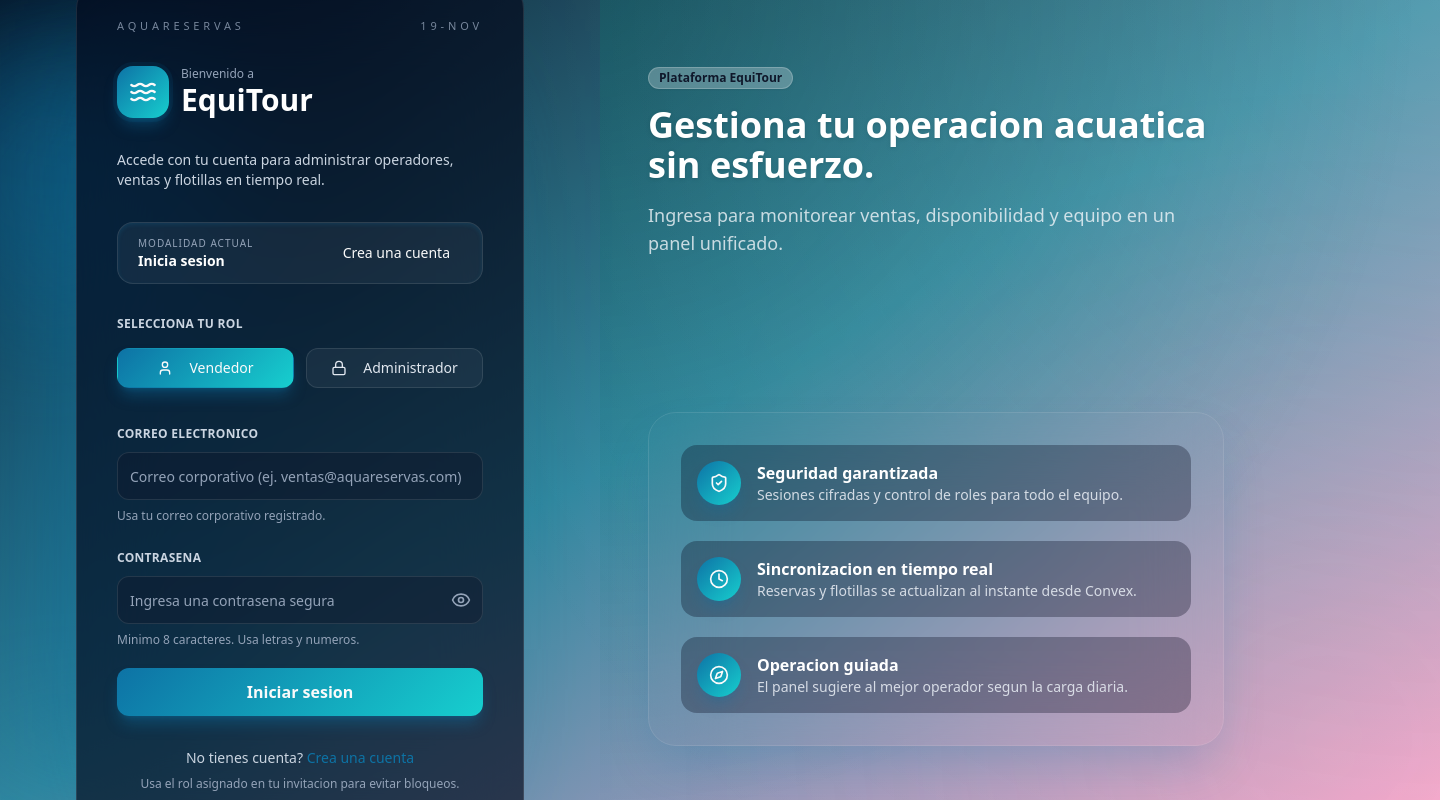
Test case: LoginScreen › renders sign-in mode by default and toggles to sign-up
Check: the text "Inicia sesion" is shown, box top-left (138, 251), bottom-right (225, 270)
Click the button "Crea una cuenta" next to "Modalidad actual". click: (396,253)
box: top-left (331, 235), bottom-right (462, 271)
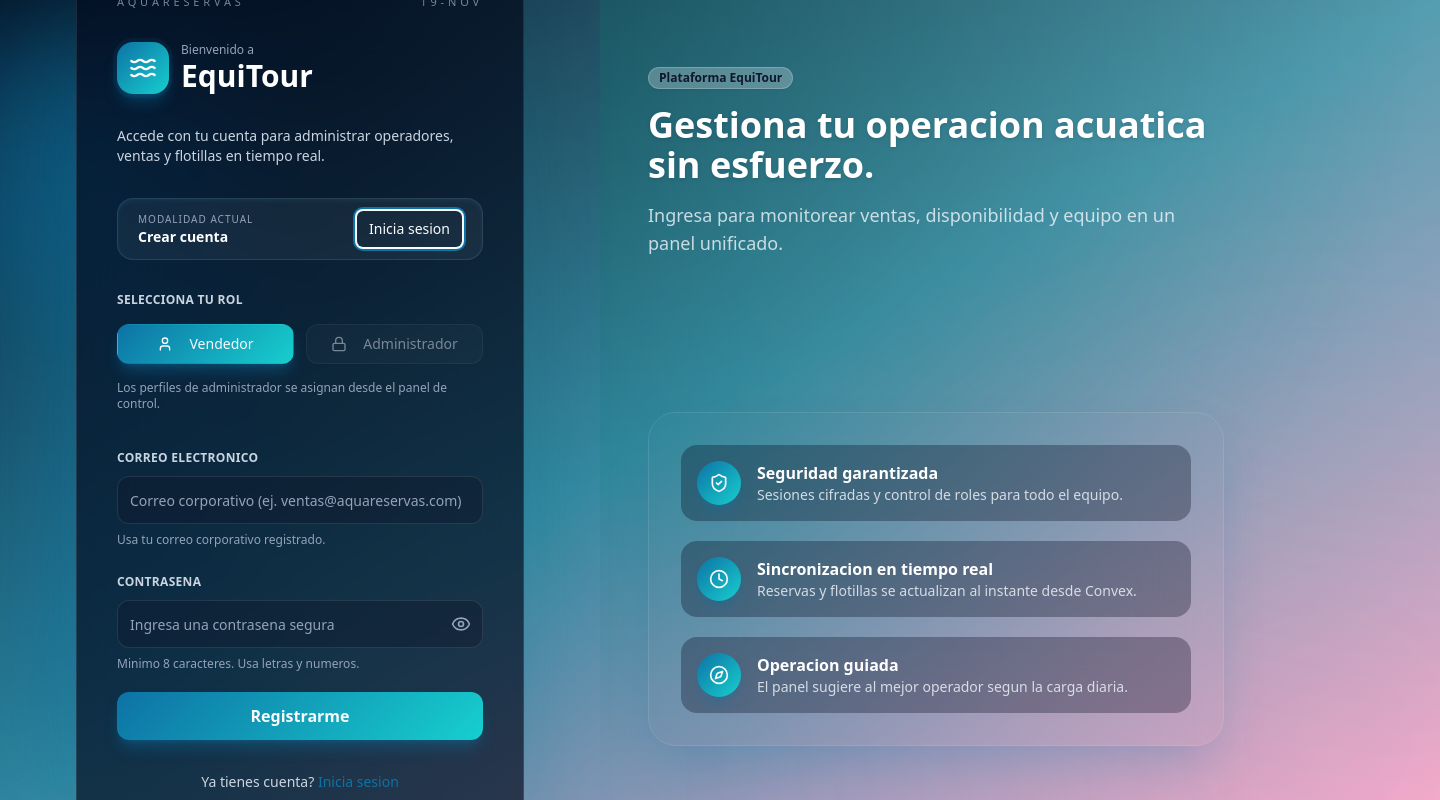
Check: the text "Crear cuenta" is shown, box top-left (138, 227), bottom-right (228, 246)
Check: the button "Administrador" is disabled, box top-left (306, 324), bottom-right (483, 364)
Check: the button "Registrarme" is shown, box top-left (117, 692), bottom-right (483, 740)
